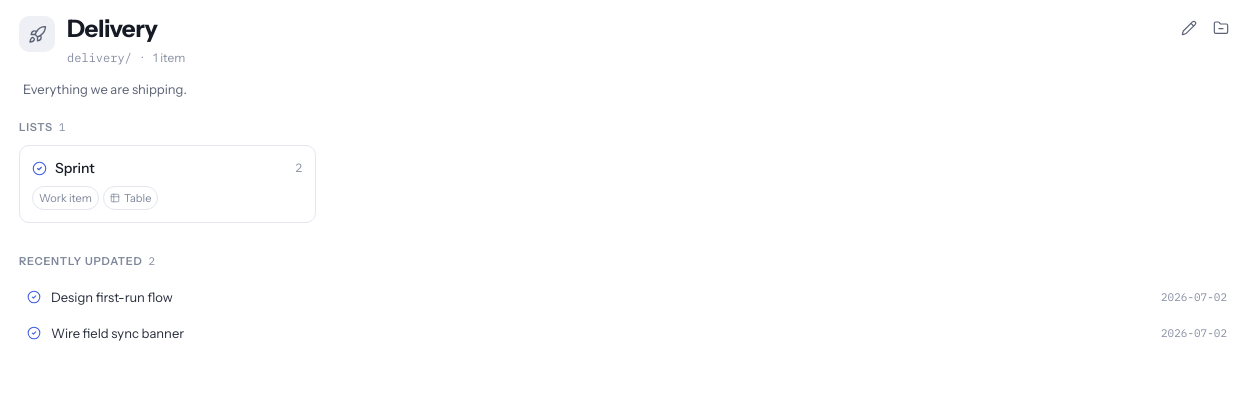
Scenario: CollectionPage home (M11) › shows the description it has, and opens it for editing
This screenshot has width=1246, height=406.
Click the button with test id "collection-description".
click(105, 89)  # box [19,78,739,101]
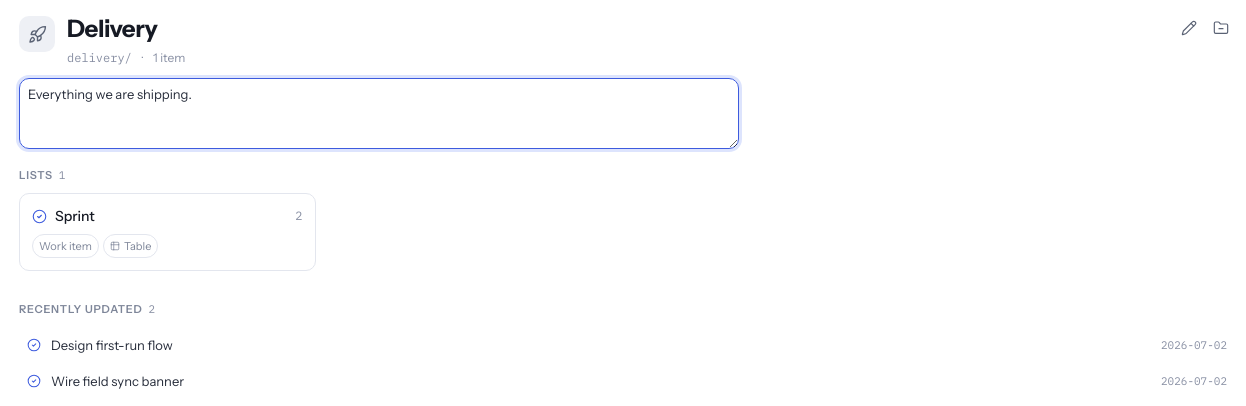
Expected: the text box named "Collection description" is shown, [19,78,739,149]
